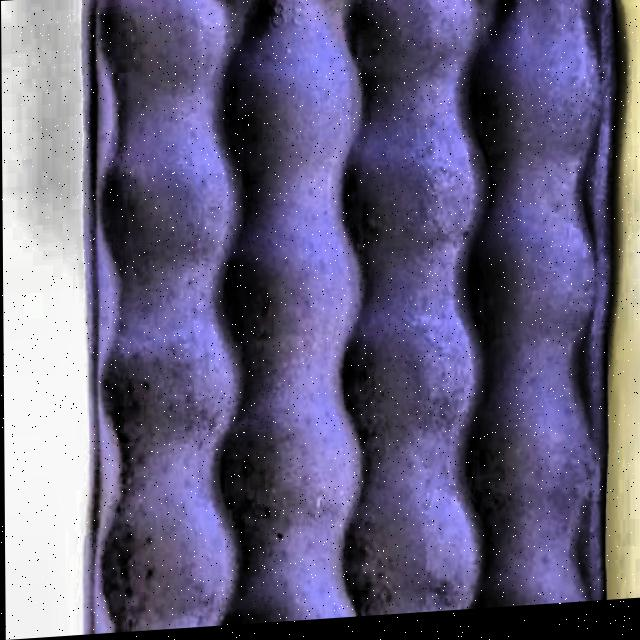paper: (75, 0, 622, 635)
